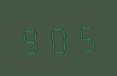five: (71, 19, 96, 54)
nine: (18, 22, 43, 56)
zero: (45, 20, 70, 55)
